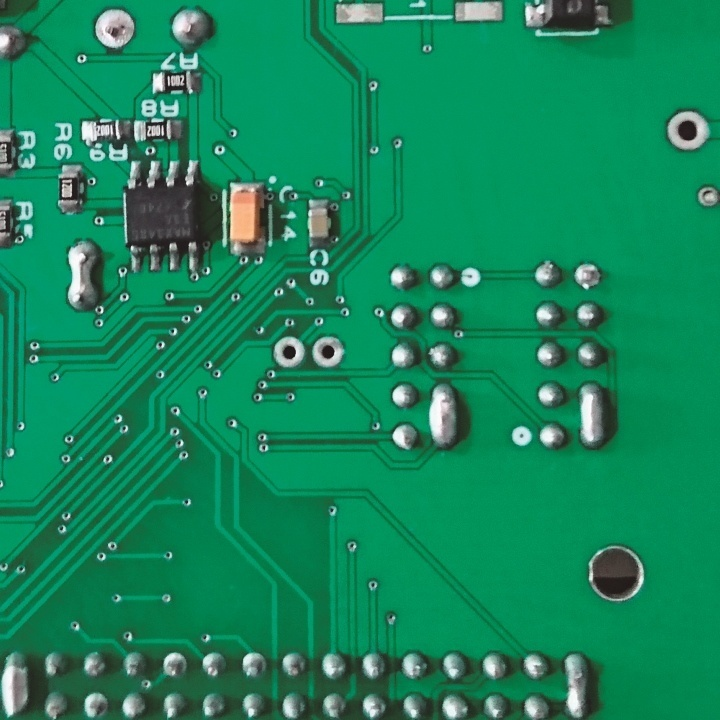F: (88, 4, 139, 55), (664, 107, 713, 155), (308, 332, 346, 371), (271, 333, 307, 371), (239, 645, 271, 686), (79, 687, 113, 720), (573, 259, 604, 293), (159, 647, 190, 680), (693, 181, 720, 211)
P: (62, 237, 104, 313), (561, 645, 598, 720), (426, 378, 461, 452), (1, 646, 36, 720), (576, 377, 609, 454)
